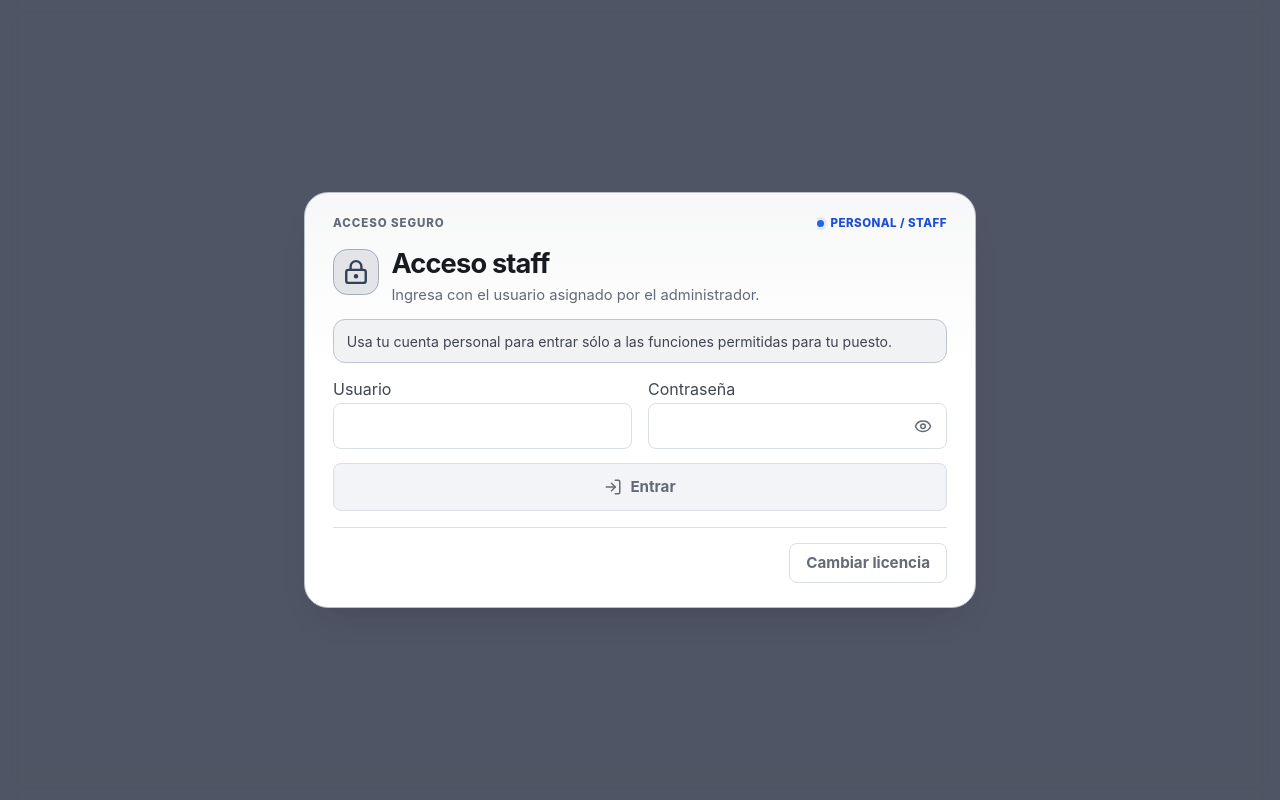
StaffLoginModal verification recovery › releases the submit loading state when Staff login throws
Type "cashier" into the field labelled "Usuario" at (482, 426), box [333,403,632,449]
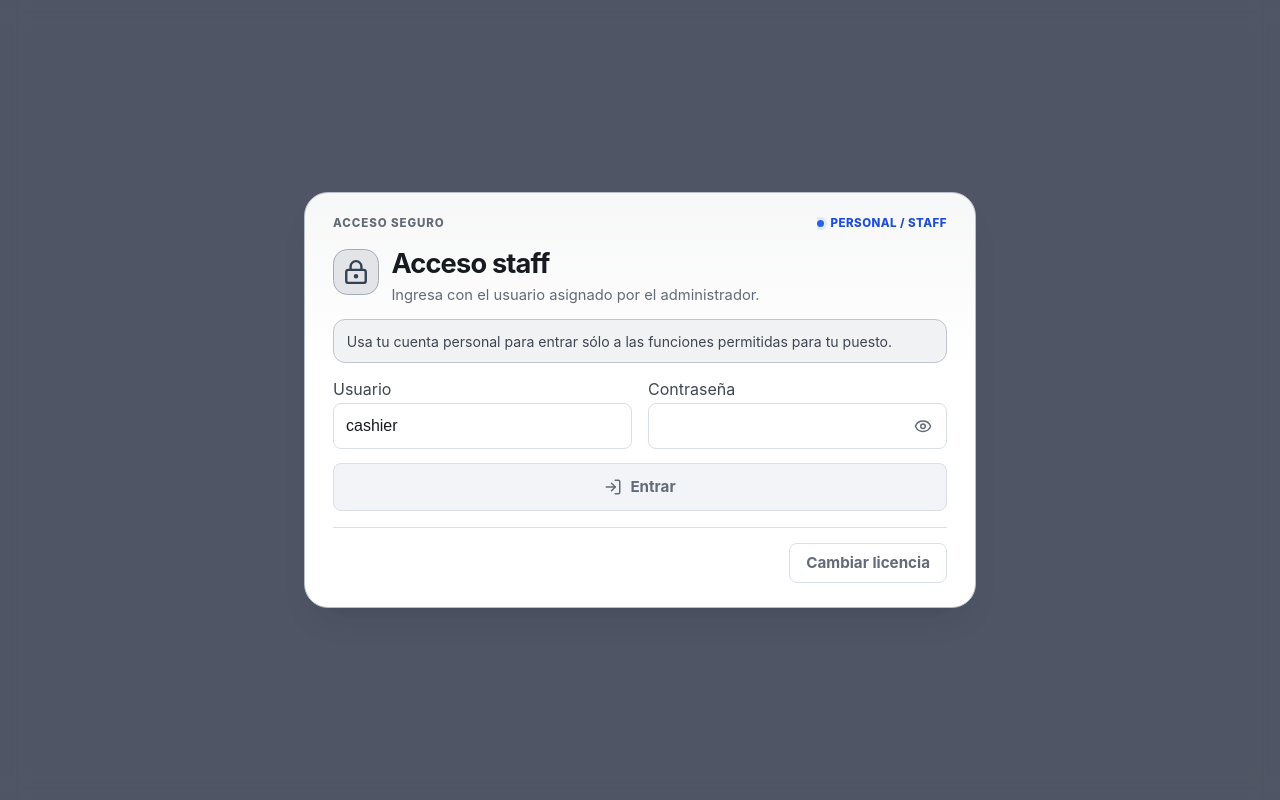
Type "fixture-only" into the password field labelled "Contraseña" at (798, 426), box [648,403,947,449]
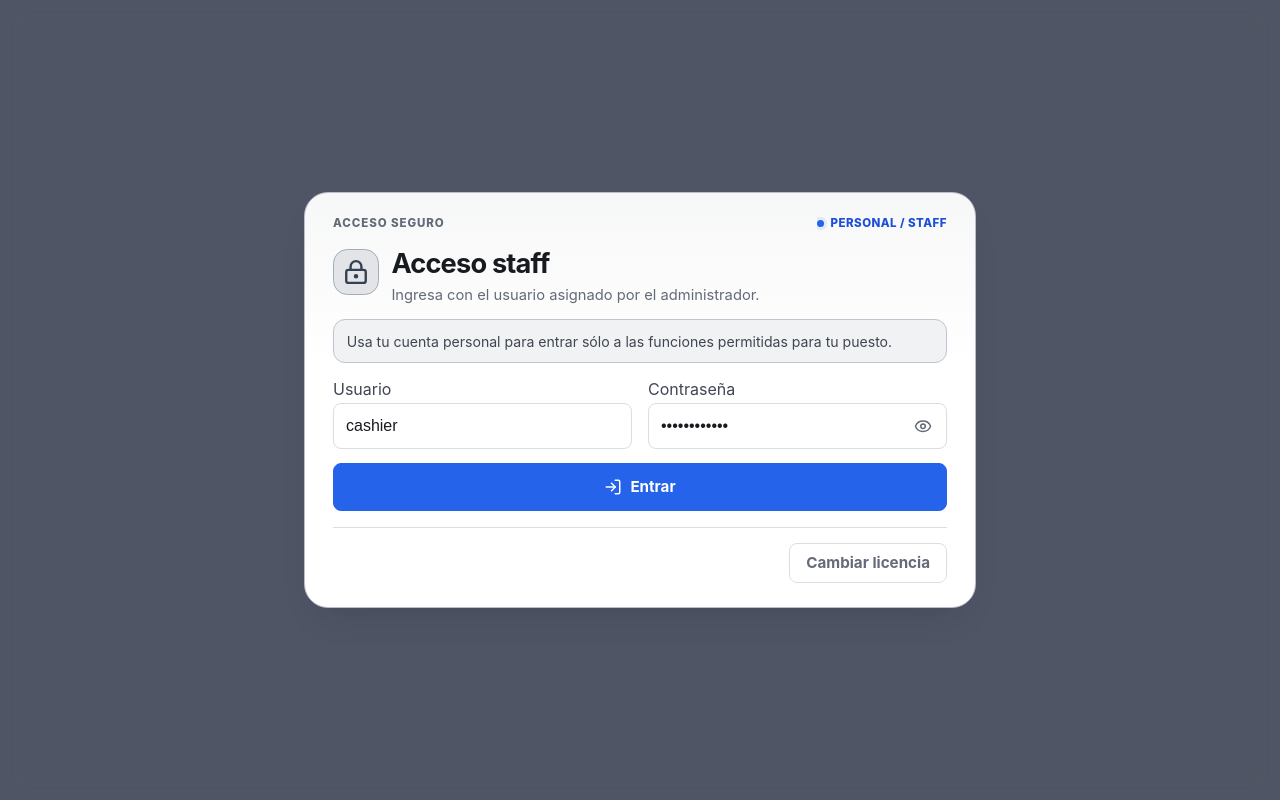
Click the button "Entrar" at (640, 487), box [333,463,947,511]
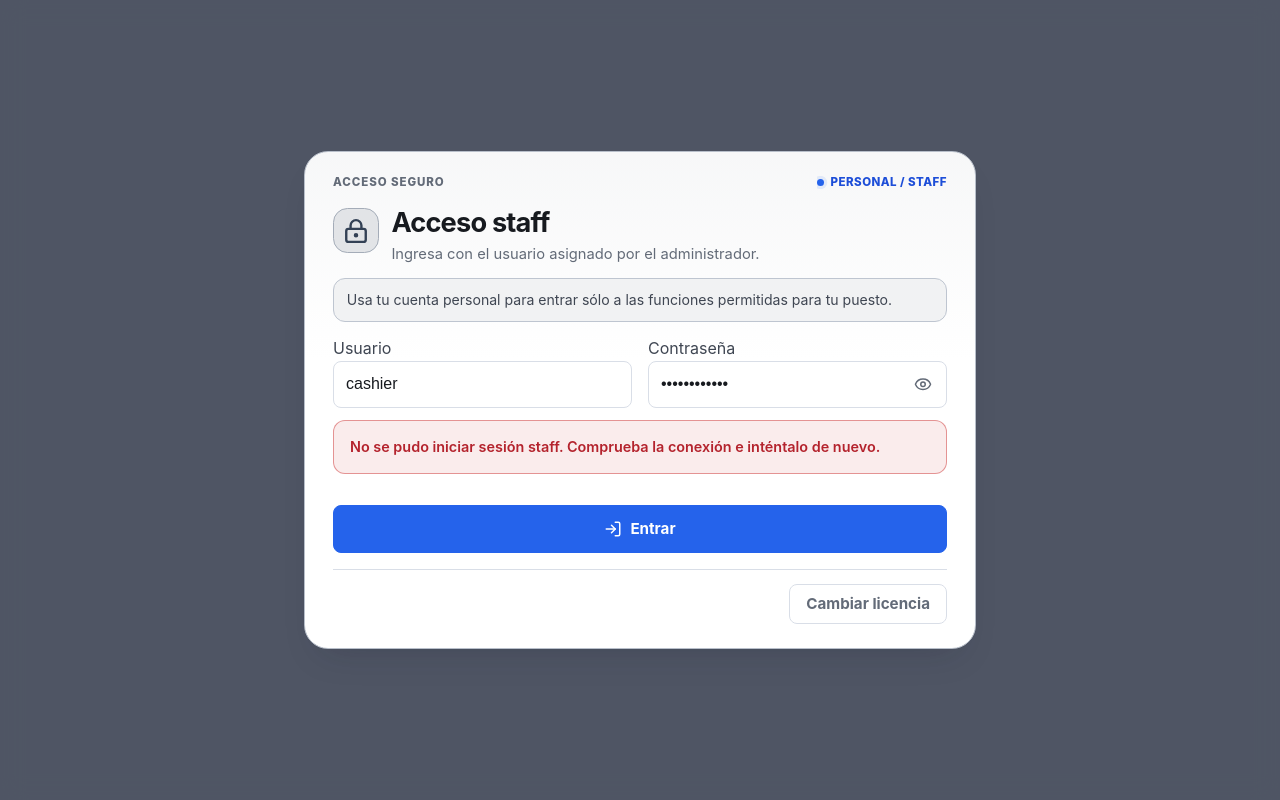
Check: the button "Entrar" is enabled, box [333,505,947,553]
Check: the text "No se pudo iniciar sesión staff. Comprueba la conexión e inténtalo de nuevo." is shown, box [333,420,947,474]
